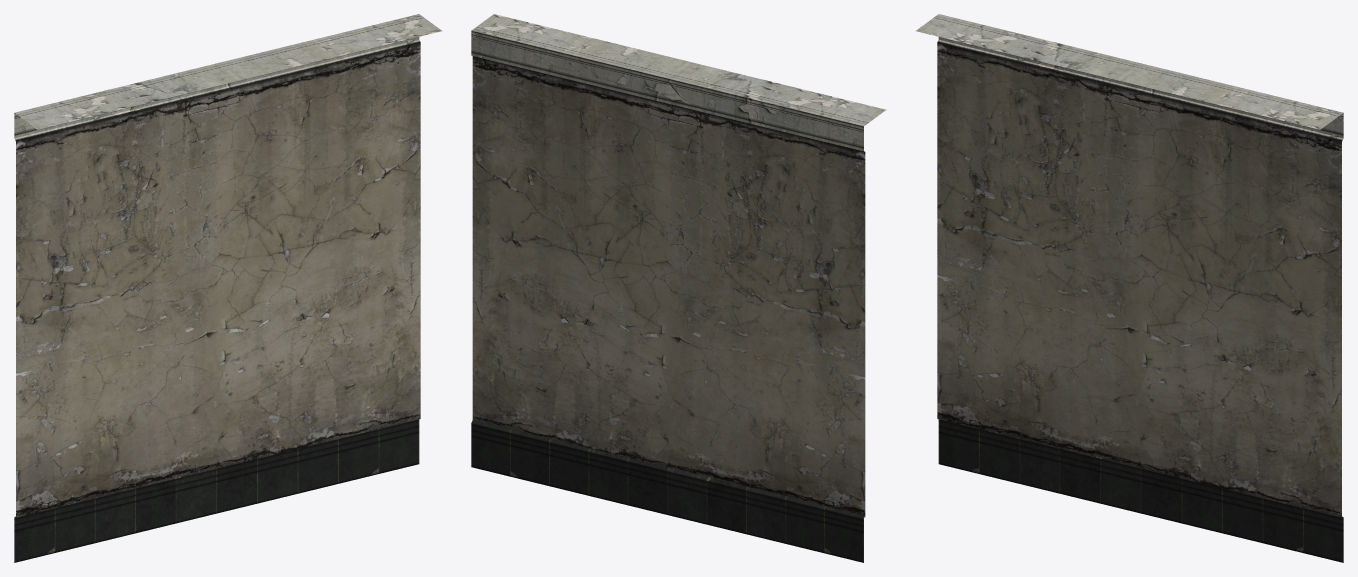
Rendered from urban_damaged_default_wall.dae.
The picture shows the model from 3 angles, left to right: view 1: azimuth 30°, elevation 25°; view 2: azimuth 150°, elevation 25°; view 3: azimuth 330°, elevation 25°; orthographic projection. The views are drawn at different scales.
Parts seen in each view (by area): view 1: plaster, trims; view 2: plaster, trims; view 3: plaster, trims.
Boxes of the visible parts, bbox=[...] form: plaster: bbox=[16, 42, 420, 517]; trims: bbox=[14, 14, 442, 562]; plaster: bbox=[472, 56, 865, 516]; trims: bbox=[471, 14, 886, 562]; plaster: bbox=[937, 42, 1341, 517]; trims: bbox=[915, 14, 1343, 562].
Size of the model in its own units: 4 by 4.25 by 0.4006.
